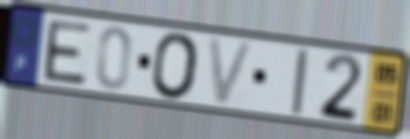0: (94, 24, 133, 93)
2: (320, 52, 365, 126)
E: (42, 18, 93, 88)
I: (289, 46, 311, 118)
O: (151, 31, 202, 103)
V: (205, 34, 258, 109)
